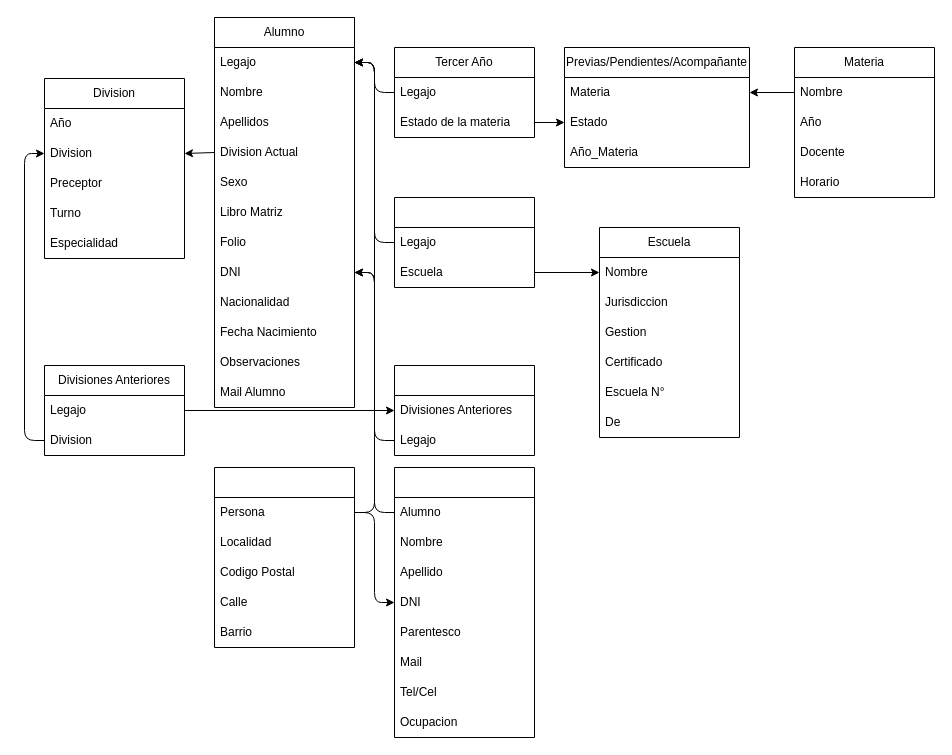
The diagram is 952 pixels wide and 755 high, and some of its shapes have lost their labels. The shapes that lost their labels are listed below. From the top down, each one's box as (x1, y1, x2, y2) in pixels, then its label:
(394, 196, 534, 288): Primer Año
(394, 364, 534, 456): Segundo Año
(214, 466, 354, 648): Domicilio
(394, 466, 534, 738): Responsable Alumno
